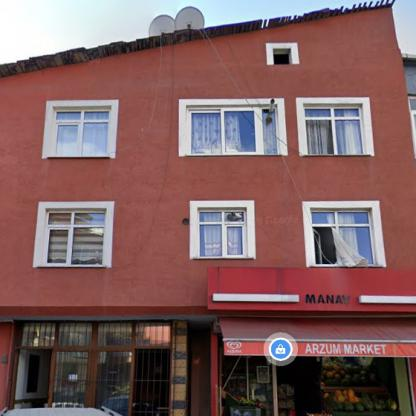door: (20, 352, 40, 406)
window: (51, 350, 130, 406), (42, 207, 111, 263), (21, 322, 172, 346), (193, 110, 276, 152), (314, 210, 374, 263), (308, 108, 364, 152), (198, 207, 247, 255), (54, 110, 108, 152), (272, 48, 290, 64)
